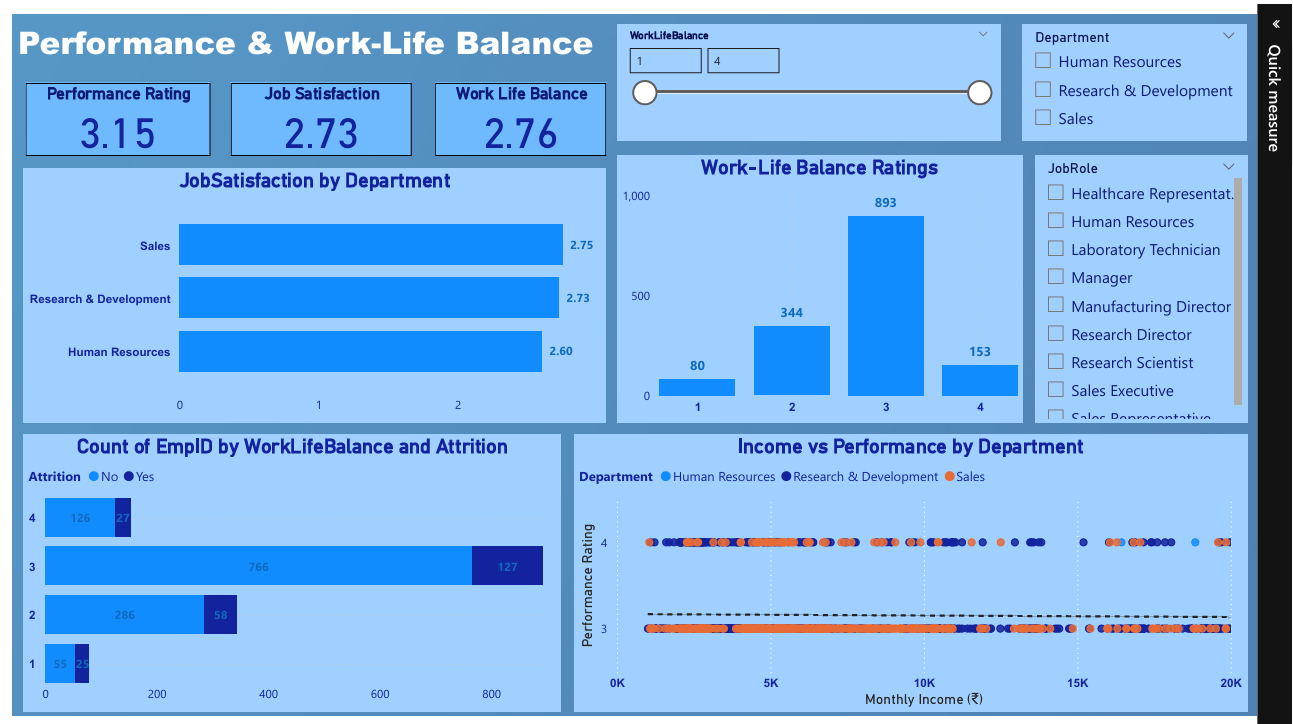

Layout of this report page (visuals, bound fields, positions):
{"tool":"powerbi","page":{"name":"Page 3","canvas":[1280,720],"ordinal":2},"visuals":[{"type":"textbox","box":[0,0,621.3,56.9],"z":0},{"type":"card","title":"Performance Rating","fields":{"Values":["Avg(HR_Analytics.PerformanceRating)"]},"box":[13,69.9,190.3,74.8],"z":1000},{"type":"card","title":"Work Life Balance","fields":{"Values":["Avg(HR_Analytics.WorkLifeBalance)"]},"box":[434.3,69.9,175.7,74.8],"z":2000},{"type":"card","title":"Job Satisfaction","fields":{"Values":["Avg(HR_Analytics.JobSatisfaction)"]},"box":[224.5,69.9,185.4,74.8],"z":3000},{"type":"barChart","title":"JobSatisfaction by Department","fields":{"Category":["HR_Analytics.Department"],"Y":["Avg(HR_Analytics.JobSatisfaction)"]},"box":[11.4,157.8,598.6,261.9],"z":4000},{"type":"columnChart","title":"Work-Life Balance Ratings","fields":{"Y":["Count(HR_Analytics.EmpID)"],"Category":["HR_Analytics.WorkLifeBalance"]},"box":[621.3,144.8,416.4,274.9],"z":5000},{"type":"barChart","fields":{"Category":["HR_Analytics.WorkLifeBalance"],"Y":["Count(HR_Analytics.EmpID)"],"Series":["HR_Analytics.Attrition"]},"box":[11.4,431,553,284.6],"z":6000},{"type":"scatterChart","title":"Income vs Performance by Department","fields":{"Series":["HR_Analytics.Department"],"X":["HR_Analytics.MonthlyIncome"],"Y":["HR_Analytics.PerformanceRating"]},"box":[577.4,431,691.3,284.6],"z":7000},{"type":"slicer","fields":{"Values":["HR_Analytics.Department"]},"box":[1037.7,9.8,231,120.4],"z":8000},{"type":"slicer","fields":{"Values":["HR_Analytics.JobRole"]},"box":[1050.7,144.8,218,274.9],"z":9000},{"type":"slicer","fields":{"Values":["HR_Analytics.WorkLifeBalance"]},"box":[621.3,9.8,393.6,120.4],"z":10000}]}

Visuals, with their boxes on the page's 1280x720 design canvas (x1, y1, x2, y2). These are canvas units, not pixel positions in the 1293x724 screenshot, which may show the page scaled, cropped or inside an application window:
textbox: box(0, 0, 621, 57)
"Performance Rating" card: box(13, 70, 203, 145)
"Work Life Balance" card: box(434, 70, 610, 145)
"Job Satisfaction" card: box(224, 70, 410, 145)
"JobSatisfaction by Department" barChart: box(11, 158, 610, 420)
"Work-Life Balance Ratings" columnChart: box(621, 145, 1038, 420)
barChart - HR_Analytics.WorkLifeBalance x Count(HR_Analytics.EmpID): box(11, 431, 564, 716)
"Income vs Performance by Department" scatterChart: box(577, 431, 1269, 716)
slicer - HR_Analytics.Department: box(1038, 10, 1269, 130)
slicer - HR_Analytics.JobRole: box(1051, 145, 1269, 420)
slicer - HR_Analytics.WorkLifeBalance: box(621, 10, 1015, 130)
